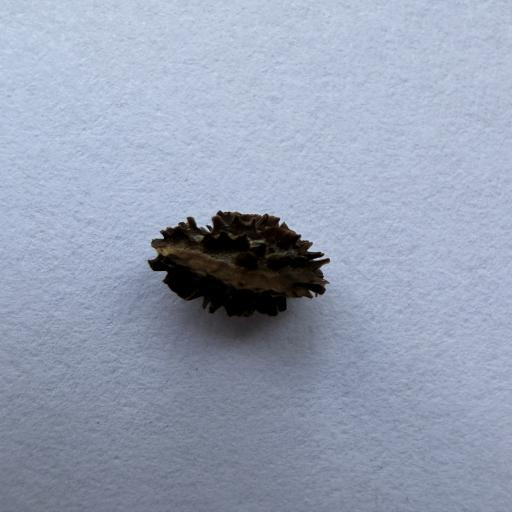papaya_seed: (136, 194, 330, 324)
